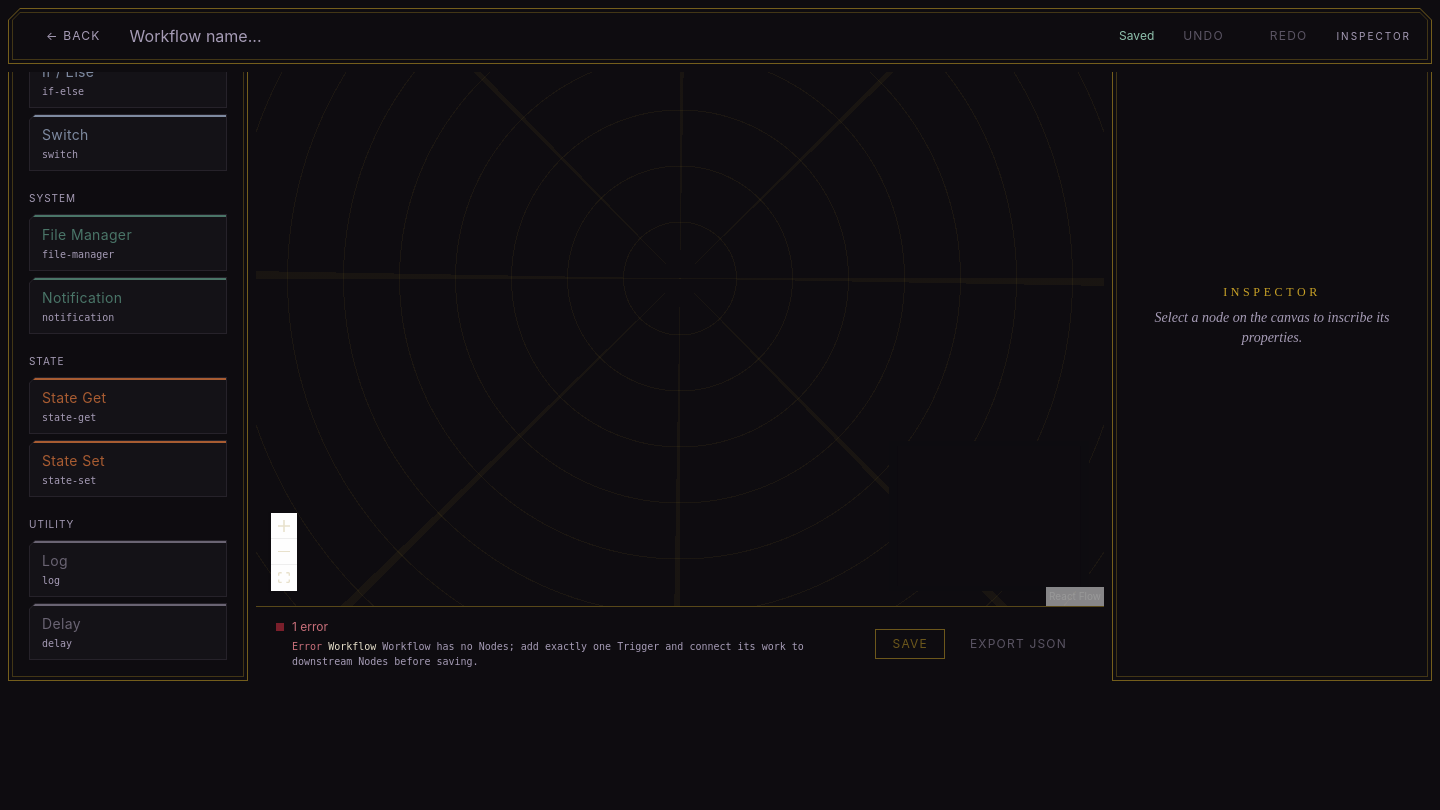
Test case: Workflow Builder renderer behavior › shows field-level feedback while a numeric property is incomplete
(page scrolled)
Click the button "Delay delay". click: (128, 632)
box: left=29, top=603, right=227, bottom=660
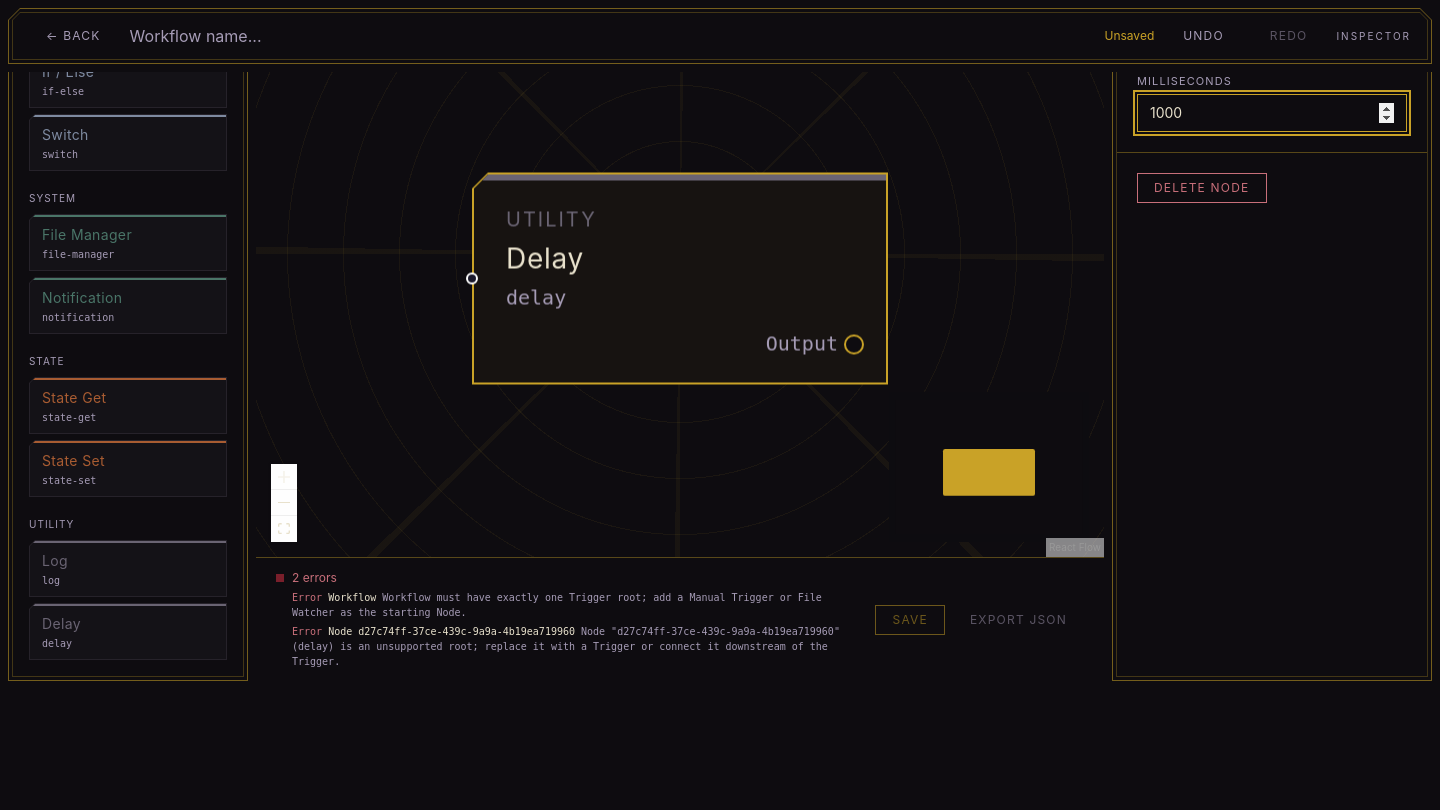
Clear the number field labelled "Milliseconds". click: (1272, 112)
box: left=1137, top=94, right=1407, bottom=132
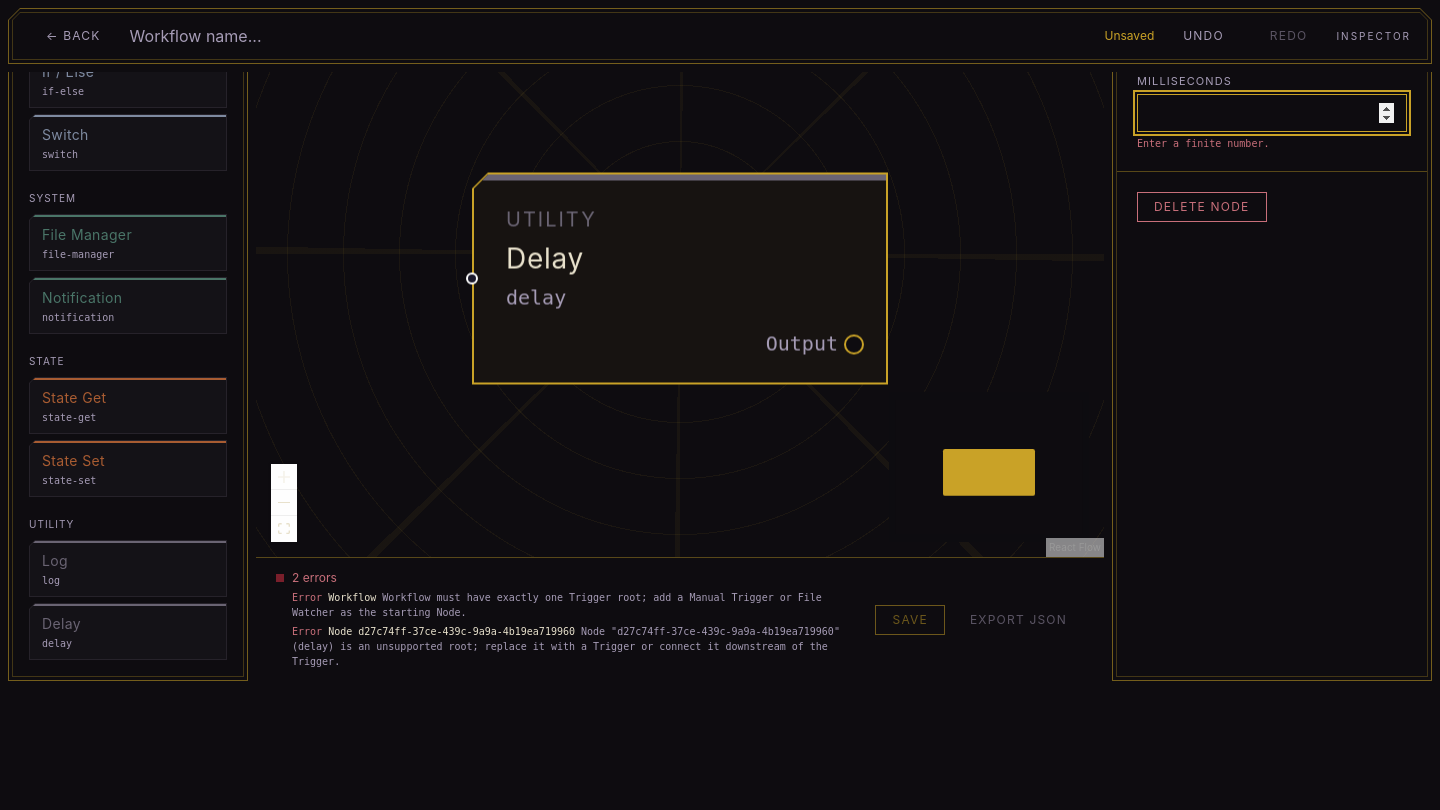
Check: the text "Enter a finite number." is shown, box left=1137, top=138, right=1270, bottom=148
Press Tab
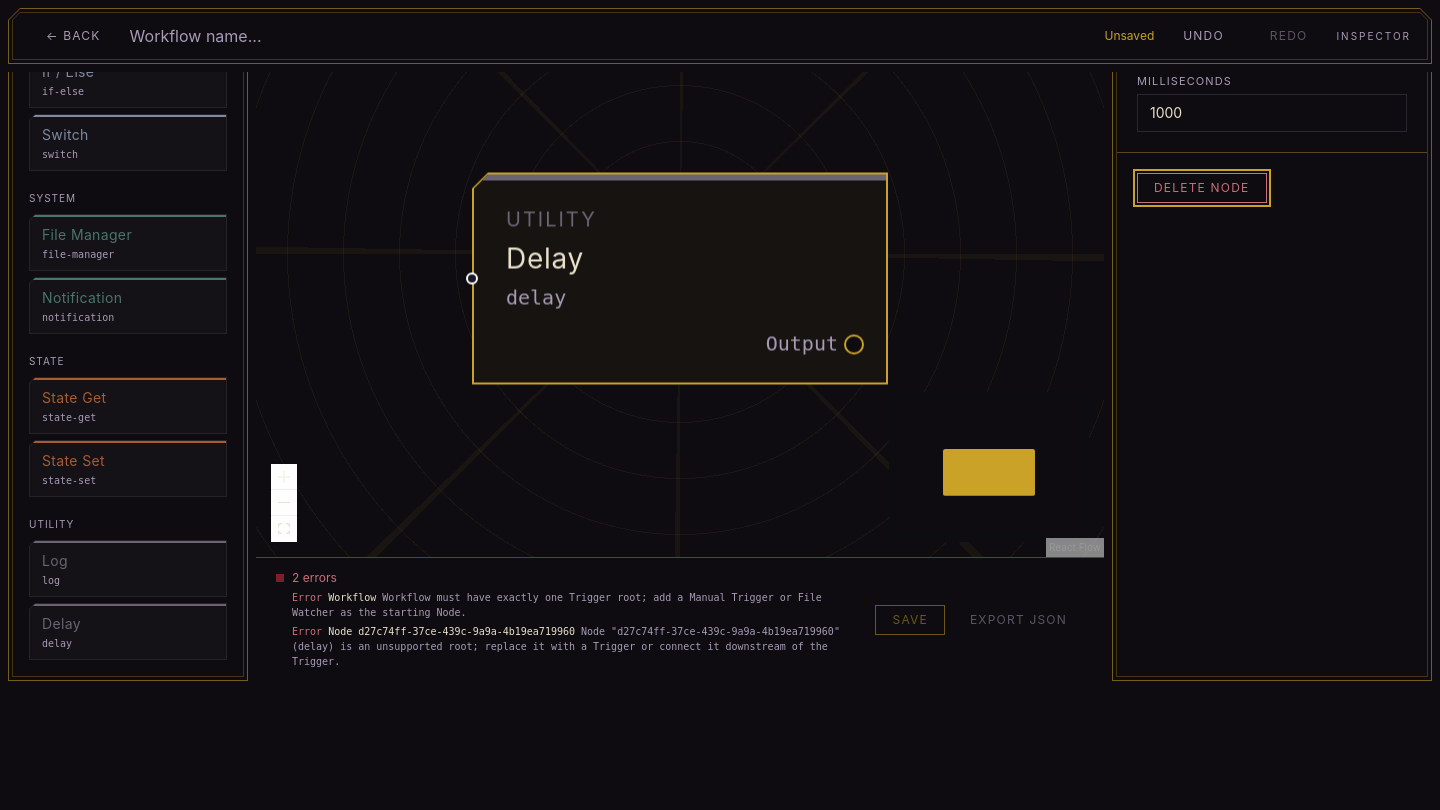
Check: the number field labelled "Milliseconds" holds "1000", box left=1137, top=94, right=1407, bottom=132
